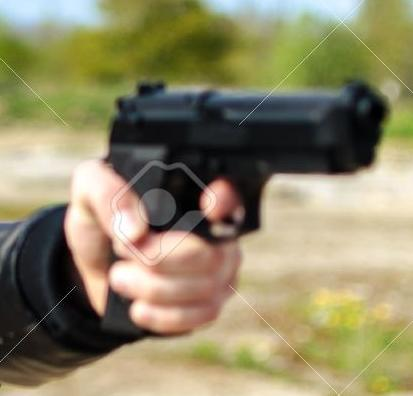gun: (1, 1, 413, 396)
